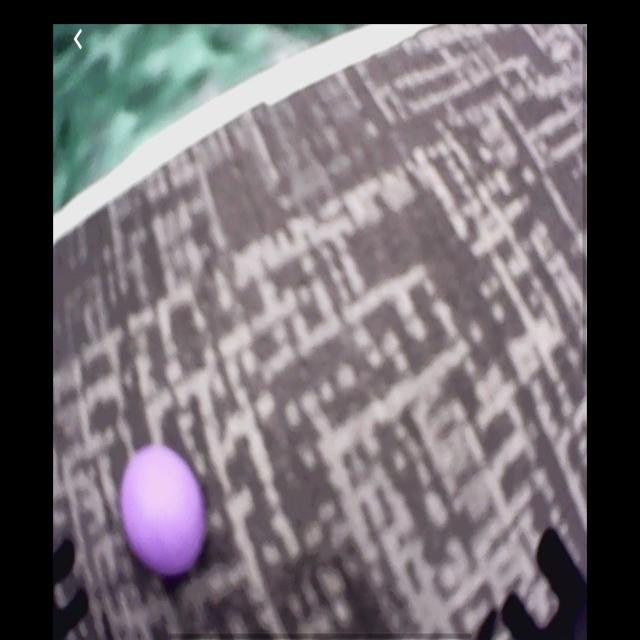ball: (121, 446, 204, 578)
